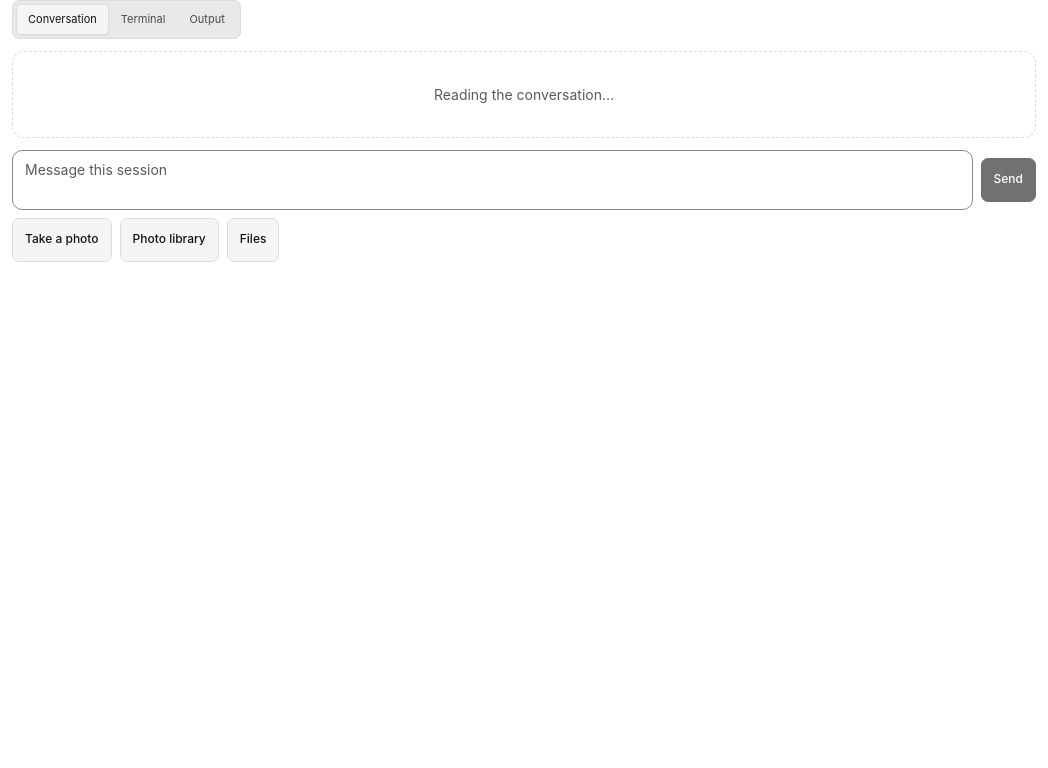
Test: the phone's composer and the conversation it writes to (KR-REQ-13.12) › keeps a draft written before the agent was read to the first conversation it learns
The image size is (1048, 768).
Type "Written early" into the text box labelled "Message this session" at (492, 180), box [12,150,973,210]
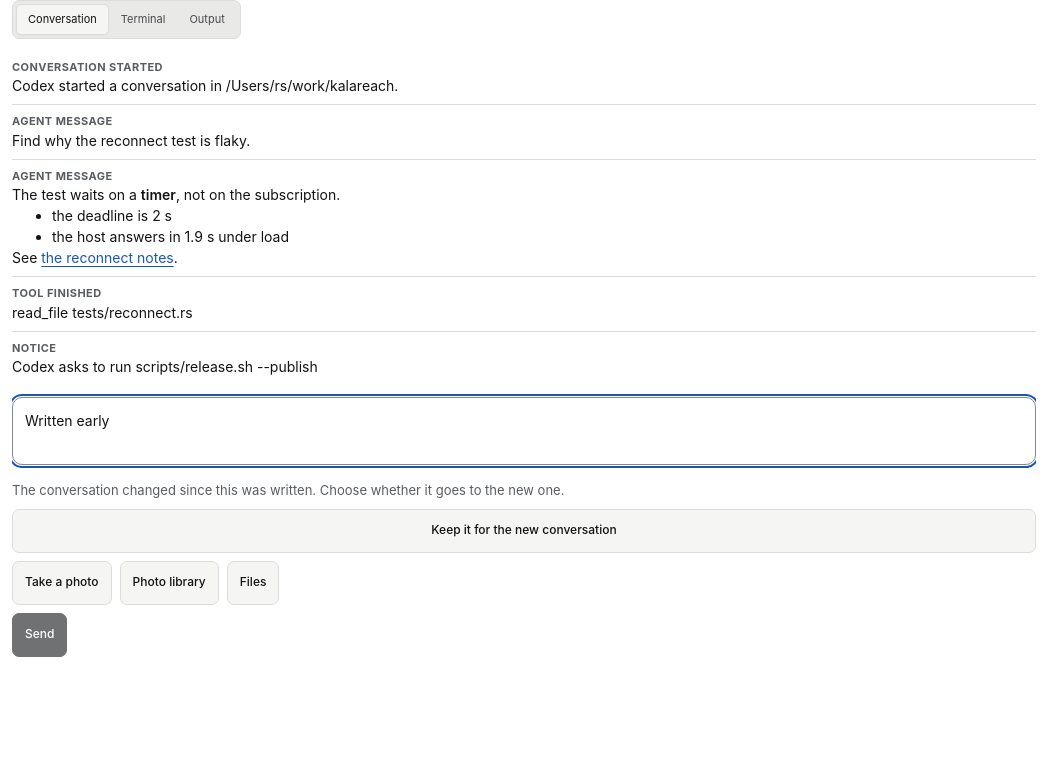
Check: the button "Send" is disabled, box [12,612,67,656]
Check: the text "Find why the reconnect test is flaky." is shown, box [12,132,250,148]
Check: the text "The conversation changed since this was written" is shown, box [12,482,564,498]
